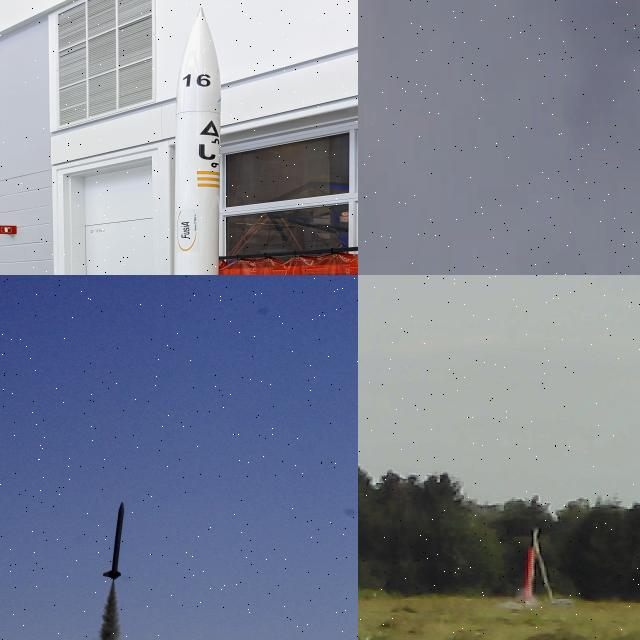Rocket: (174, 7, 221, 275), (102, 501, 125, 580), (525, 544, 534, 600)
